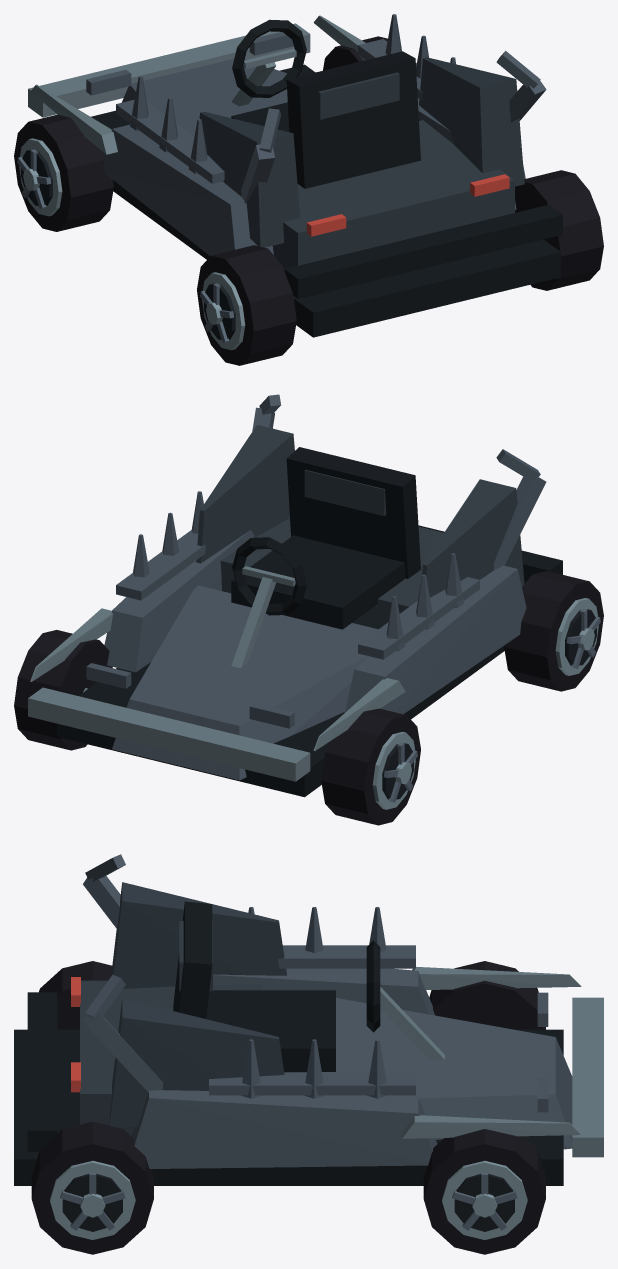
Rendered from kart.glb.
3 renders of one model, top to bottom at view 1: azimuth 30°, elevation 25°; view 2: azimuth 150°, elevation 25°; view 3: azimuth 270°, elevation 25°, orthographic. The views are drawn at different scales.
Parts seen in each view (by area): view 1: chassis, wheel-rear-left, wheel-front-left, wheel-rear-right, wheel-front-right; view 2: chassis, wheel-front-left, wheel-rear-left, wheel-front-right; view 3: chassis, wheel-rear-right, wheel-front-right, wheel-front-left, wheel-rear-left.
Part boxes in pixels (x1,y1,x2,y2): chassis: (28,14,562,337); wheel-rear-left: (197,245,296,365); wheel-front-left: (14,114,113,231); wheel-rear-right: (515,170,603,290); wheel-front-right: (323,36,387,70); chassis: (28,394,562,797); wheel-front-left: (321,708,420,825); wheel-rear-left: (504,571,603,691); wheel-front-right: (14,630,112,750); chassis: (14,854,603,1185); wheel-rear-right: (31,1121,153,1254); wheel-front-right: (423,1129,545,1254); wheel-front-left: (429,961,545,1029); wheel-rear-left: (39,961,112,1029).
Size of the model in its own units: 2.37 by 1.38 by 3.
